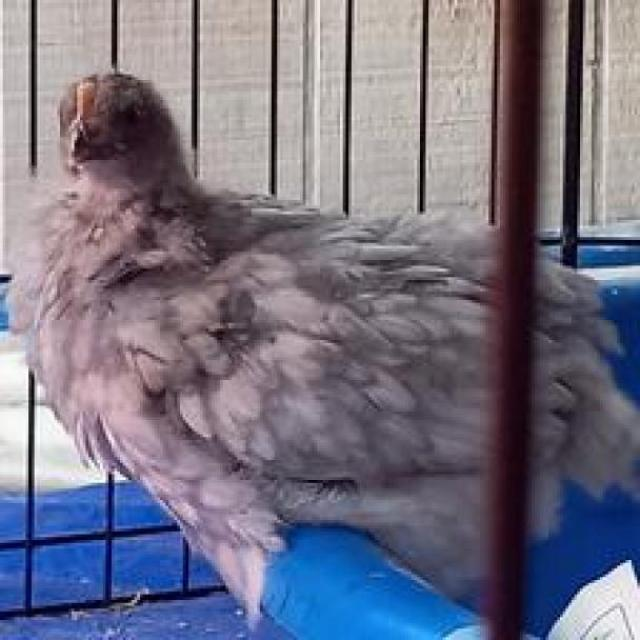Chicken: (30, 68, 640, 599)
